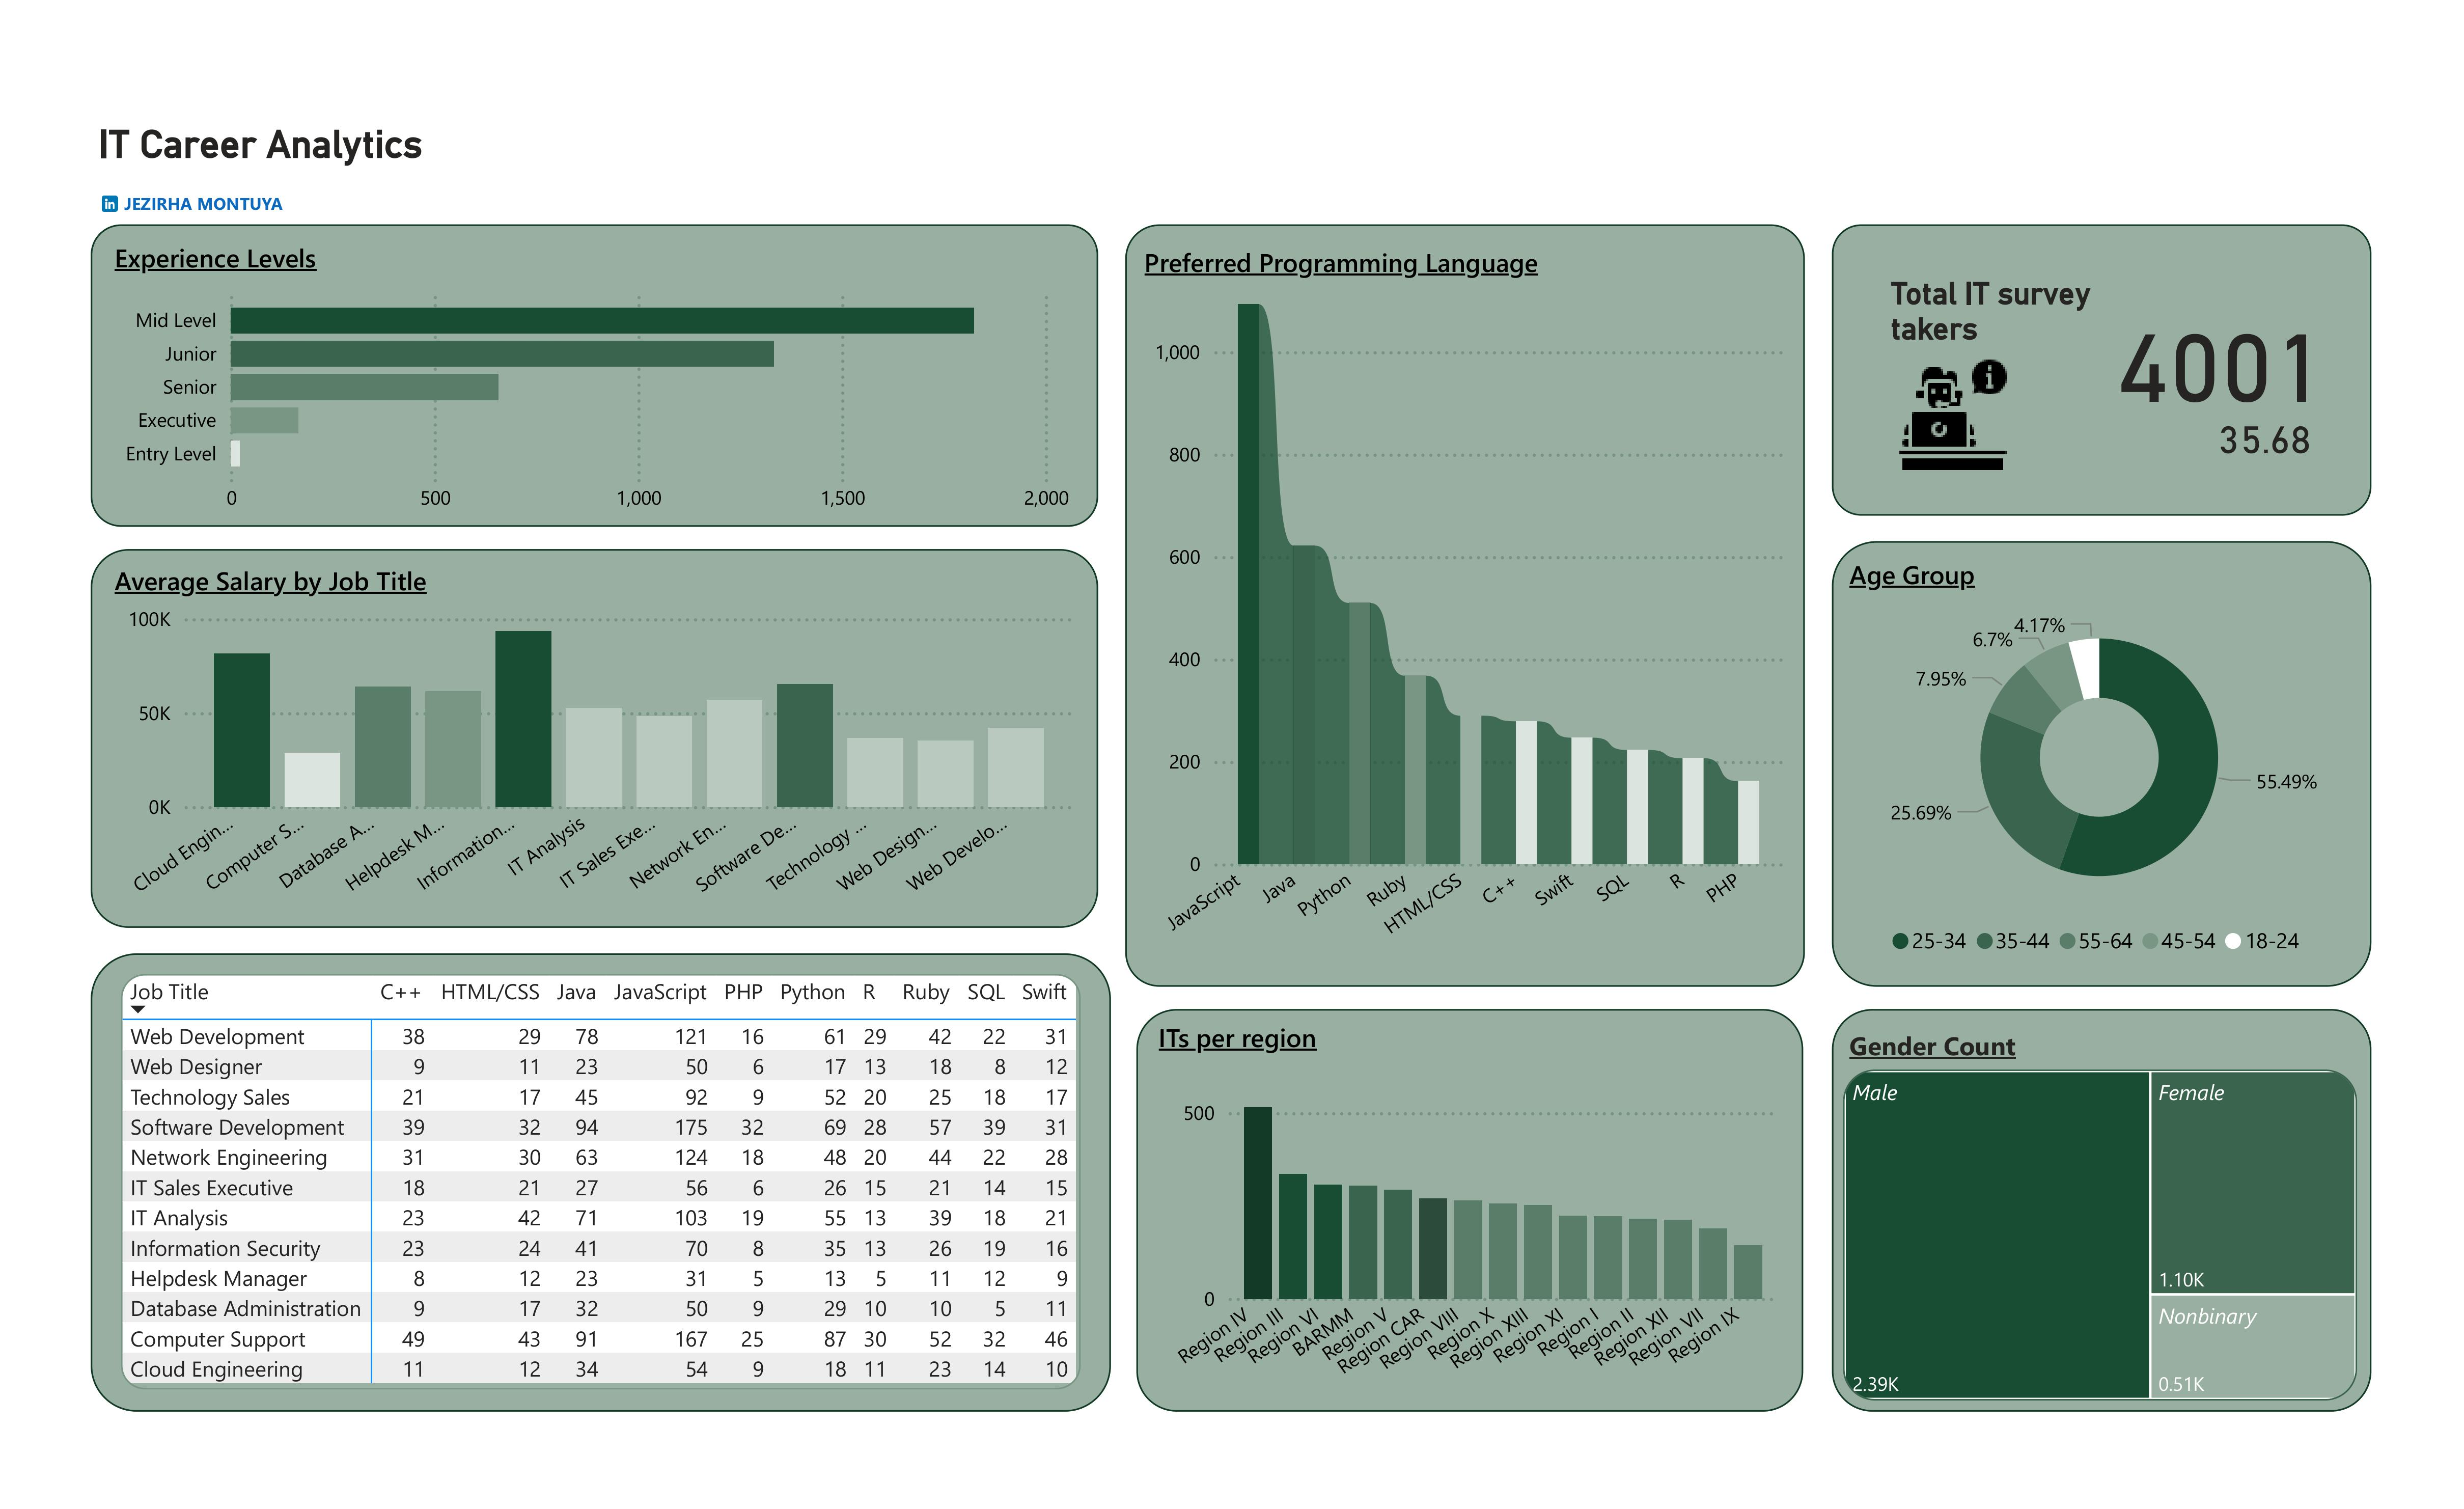

The page's visual inventory and layout, read from the dashboard file:
{"tool":"powerbi","page":{"name":"Page 2","canvas":[1500,900],"ordinal":0},"visuals":[{"type":"textbox","box":[48.5,89,131.5,41],"z":0,"group":"g1"},{"type":"shape","box":[690,610,418.6,252.9],"z":0},{"type":"image","box":[26.5,93.5,36,20.5],"z":1000,"group":"g1"},{"type":"shape","box":[1127.1,117.1,338.6,182.9],"z":1000},{"type":"shape","box":[32.7,117.3,633.3,189.3],"z":2000},{"type":"shape","box":[32.7,321.3,633.3,237.3],"z":3000},{"type":"shape","box":[1127.1,315.7,338.6,280],"z":4000},{"type":"shape","box":[1127.1,610,338.6,252.9],"z":5000},{"type":"shape","box":[682.9,117.1,427.1,478.6],"z":6000},{"type":"shape","box":[32.7,574.7,641.3,288],"z":7000},{"type":"textbox","box":[32.5,47.5,315.5,41.5],"z":8000},{"type":"clusteredBarChart","title":"Experience Levels","fields":{"Y":["it job market.job title"],"Category":["it job market.salary_category"]},"box":[42.5,126.7,610,180],"z":9000},{"type":"group","id":"g1","title":"Group 1","box":[26.5,89,153.5,41],"z":10000},{"type":"treemap","fields":{"Group":["it job market.genders"],"Values":["it job market.job title"]},"box":[1133.5,647.6,323.5,208.2],"z":11000},{"type":"columnChart","title":"Average Salary by Job Title","fields":{"Category":["it job market.job title"],"Y":["it job market.salary"]},"box":[42.7,330,612,220],"z":12000},{"type":"clusteredColumnChart","title":"ITs per region","fields":{"Category":["it job market.region"],"Y":["it job market.job title"]},"box":[699,617,398,246],"z":13000},{"type":"pivotTable","fields":{"Rows":["it job market.job title"],"Columns":["it job market.languages"],"Values":["it job market.age"]},"box":[51.7,587.5,603.3,261.7],"z":14000},{"type":"donutChart","title":"Age Group","fields":{"Y":["it job market.salary_category"],"Category":["it job market.age group"]},"box":[1133.3,325.6,323.9,260],"z":15000},{"type":"card","fields":{"Values":["it job market.age"]},"box":[1277,144,189,110],"z":16000},{"type":"ribbonChart","title":"Preferred Programming Language","fields":{"Category":["it job market.languages"],"Y":["it job market.job title"]},"box":[690,130,411.4,455.7],"z":17000},{"type":"textbox","box":[1133,617,325,80],"z":18000},{"type":"image","box":[1158.7,192,88,88],"z":19000},{"type":"textbox","box":[1158.6,144.3,165.7,80],"z":20000},{"type":"card","fields":{"Values":["it job market.age"]},"box":[1332,224,134,55],"z":20001}]}

Visuals, with their boxes on the page's 1500x900 design canvas (x1, y1, x2, y2). These are canvas units, not pixel positions in the 2464x1509 screenshot, which may show the page scaled, cropped or inside an application window:
textbox: box(48, 89, 180, 130)
shape: box(690, 610, 1109, 863)
image: box(26, 94, 62, 114)
shape: box(1127, 117, 1466, 300)
shape: box(33, 117, 666, 307)
shape: box(33, 321, 666, 559)
shape: box(1127, 316, 1466, 596)
shape: box(1127, 610, 1466, 863)
shape: box(683, 117, 1110, 596)
shape: box(33, 575, 674, 863)
textbox: box(32, 48, 348, 89)
"Experience Levels" clusteredBarChart: box(42, 127, 652, 307)
"Group 1" group: box(26, 89, 180, 130)
treemap - it job market.genders x it job market.job title: box(1134, 648, 1457, 856)
"Average Salary by Job Title" columnChart: box(43, 330, 655, 550)
"ITs per region" clusteredColumnChart: box(699, 617, 1097, 863)
pivotTable - it job market.job title x it job market.languages: box(52, 588, 655, 849)
"Age Group" donutChart: box(1133, 326, 1457, 586)
card - it job market.age: box(1277, 144, 1466, 254)
"Preferred Programming Language" ribbonChart: box(690, 130, 1101, 586)
textbox: box(1133, 617, 1458, 697)
image: box(1159, 192, 1247, 280)
textbox: box(1159, 144, 1324, 224)
card - it job market.age: box(1332, 224, 1466, 279)
